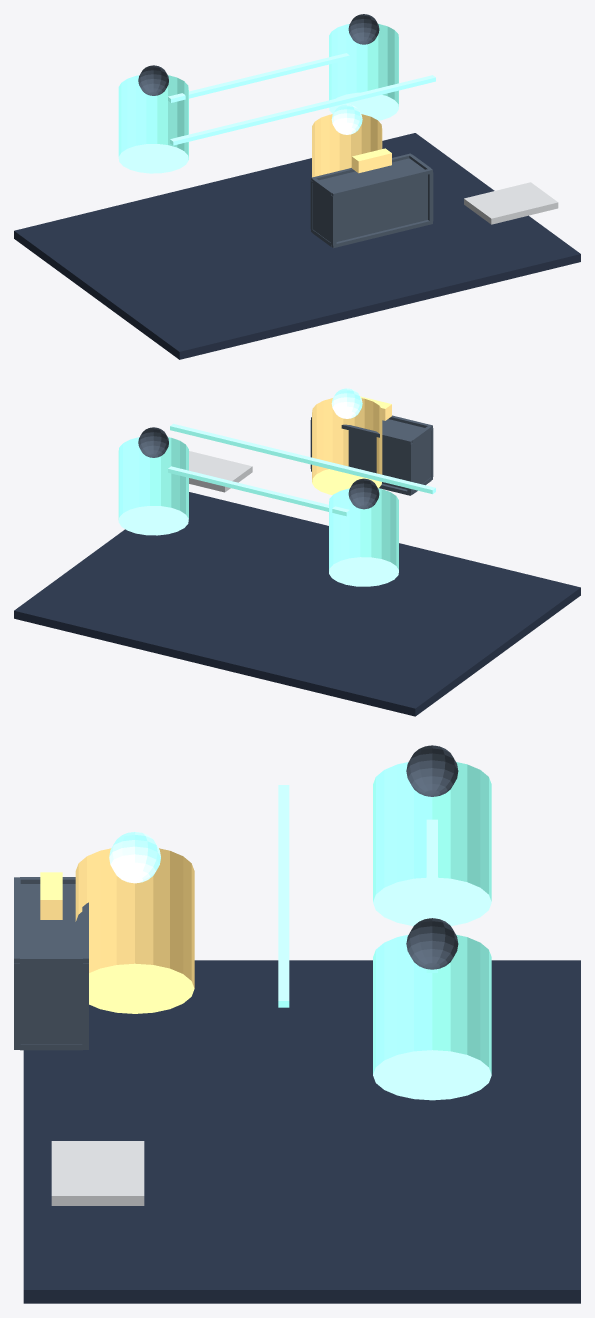
Rendered from cka-etcd-quorum.glb.
3 renders of one model, top to bottom at view 1: azimuth 30°, elevation 25°; view 2: azimuth 150°, elevation 25°; view 3: azimuth 270°, elevation 25°, orthographic. The views are drawn at different scales.
Visible parts, largest first — view 1: exam-floor, apiserver-front, etcd-member-1, etcd-member-2, etcd-member-0, exam-prompt, raft-link-1-2, raft-link-0-1, raft-link-2-0, etcd-heart-2, etcd-heart-0, etcd-heart-1 (+1 smaller); view 2: exam-floor, etcd-member-2, etcd-member-1, apiserver-front, etcd-member-0, exam-prompt, raft-link-1-2, raft-link-2-0, raft-link-0-1, etcd-heart-2, etcd-heart-0, etcd-heart-1; view 3: exam-floor, etcd-member-2, etcd-member-0, etcd-member-1, apiserver-front, exam-prompt, etcd-heart-1, etcd-heart-2, etcd-heart-0, raft-link-2-0, raft-link-1-2, raft-link-0-1 (+1 smaller).
Boxes of the visible parts, x1,y1,x2,y2 form: exam-floor: [14, 133, 580, 359]; apiserver-front: [310, 153, 433, 248]; etcd-member-1: [118, 75, 188, 173]; etcd-member-2: [329, 23, 398, 120]; etcd-member-0: [312, 114, 382, 177]; exam-prompt: [464, 182, 558, 224]; raft-link-1-2: [168, 53, 349, 102]; raft-link-0-1: [170, 101, 330, 145]; raft-link-2-0: [276, 75, 435, 114]; etcd-heart-2: [348, 14, 379, 44]; etcd-heart-0: [331, 104, 362, 134]; etcd-heart-1: [138, 65, 168, 95]; exam-floor: [14, 492, 580, 716]; etcd-member-2: [118, 437, 188, 535]; etcd-member-1: [329, 488, 398, 586]; apiserver-front: [310, 415, 433, 495]; etcd-member-0: [312, 398, 382, 494]; exam-prompt: [189, 451, 252, 492]; raft-link-1-2: [168, 466, 349, 516]; raft-link-2-0: [170, 423, 330, 468]; raft-link-0-1: [276, 449, 435, 494]; etcd-heart-2: [138, 427, 168, 457]; etcd-heart-0: [331, 388, 362, 418]; etcd-heart-1: [348, 478, 379, 509]; exam-floor: [23, 960, 580, 1303]; etcd-member-2: [373, 934, 491, 1100]; etcd-member-0: [75, 848, 194, 1013]; etcd-member-1: [373, 762, 491, 926]; apiserver-front: [14, 877, 88, 1050]; exam-prompt: [51, 1141, 144, 1205]; etcd-heart-1: [406, 745, 458, 796]; etcd-heart-2: [406, 918, 458, 969]; etcd-heart-0: [109, 831, 160, 883]; raft-link-2-0: [278, 871, 289, 1007]; raft-link-1-2: [426, 819, 437, 972]; raft-link-0-1: [278, 785, 289, 913].
Size of what is drawn, in the model's own units: 4.2 by 1.81 by 3.05.
